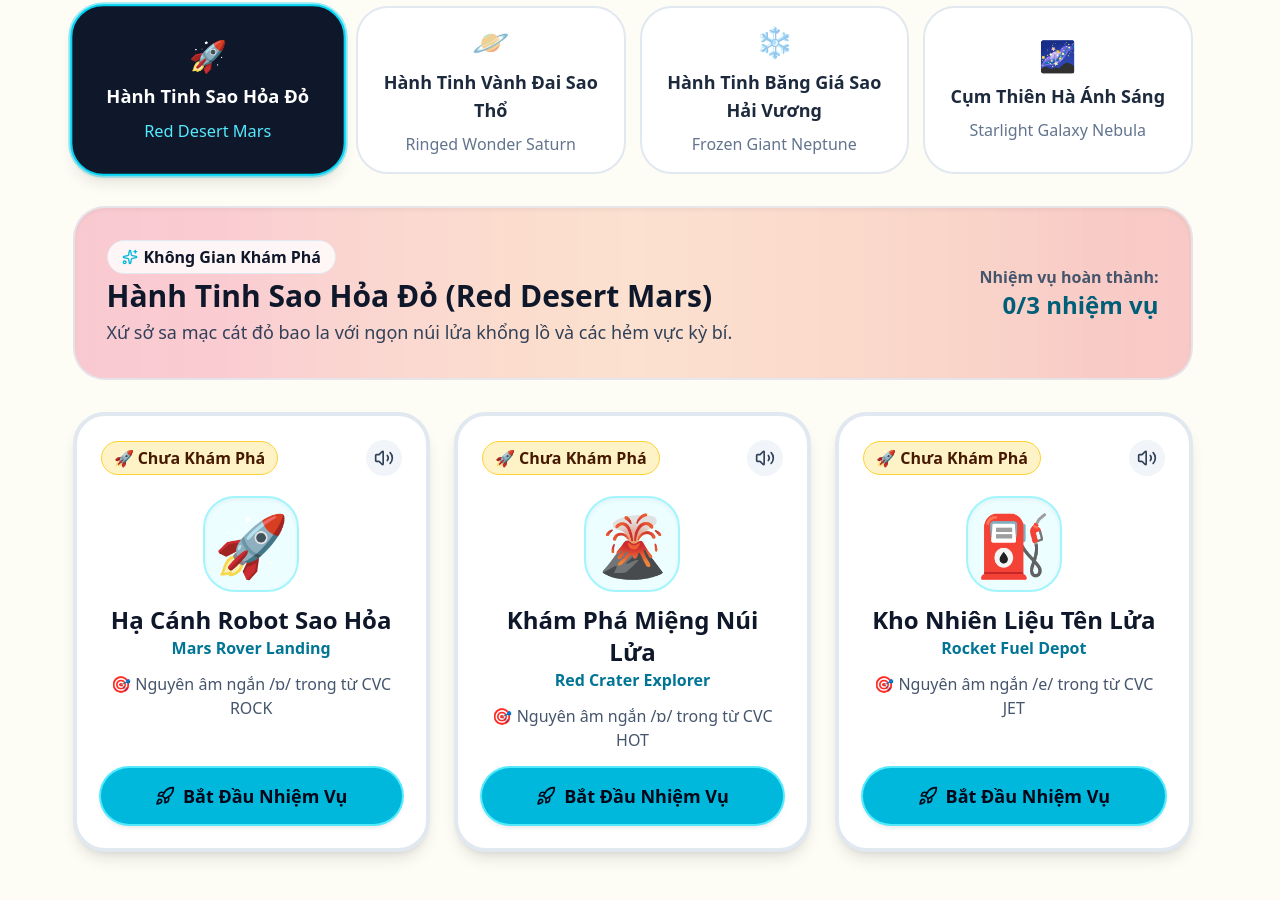
Scenario: Phonics Space Odyssey UI Components › PhonicsSpaceExperience Main Container › renders sector missions, opens rover modal, and completes mission
The image size is (1280, 900).
(page scrolled)
Check: the heading "Hành Tinh Sao Hỏa Đỏ (Red Desert Mars)" is shown, box 106,278 -> 732,314
Check: the element with test id "space-mission-card-mars-rover" is shown, box 72,412 -> 430,852
Note: Click "Bắt Đầu Nhiệm Vụ" for Mars Rover
Click the button with aria-label "thực hiện nhiệm vụ hạ cánh robot sao hỏa": (251, 796) 100,768 -> 402,824
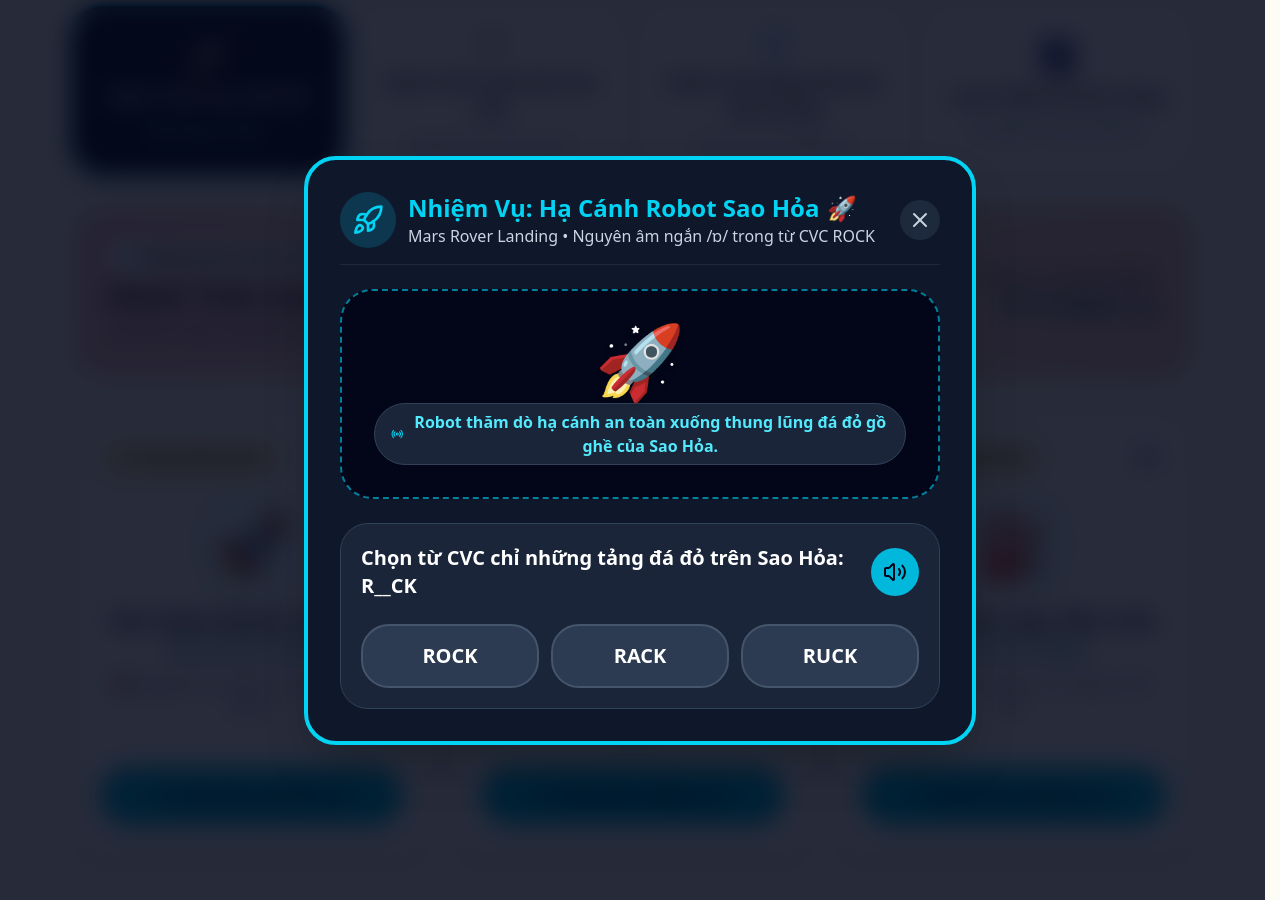
Check: the dialog named "trạm điều khiển nhiệm vụ hạ cánh robot sao hỏa" is shown
Note: Click correct option "ROCK"
Click the button "ROCK": (450, 656) 361,624 -> 539,688
Wait 1600 ms
(page scrolled)
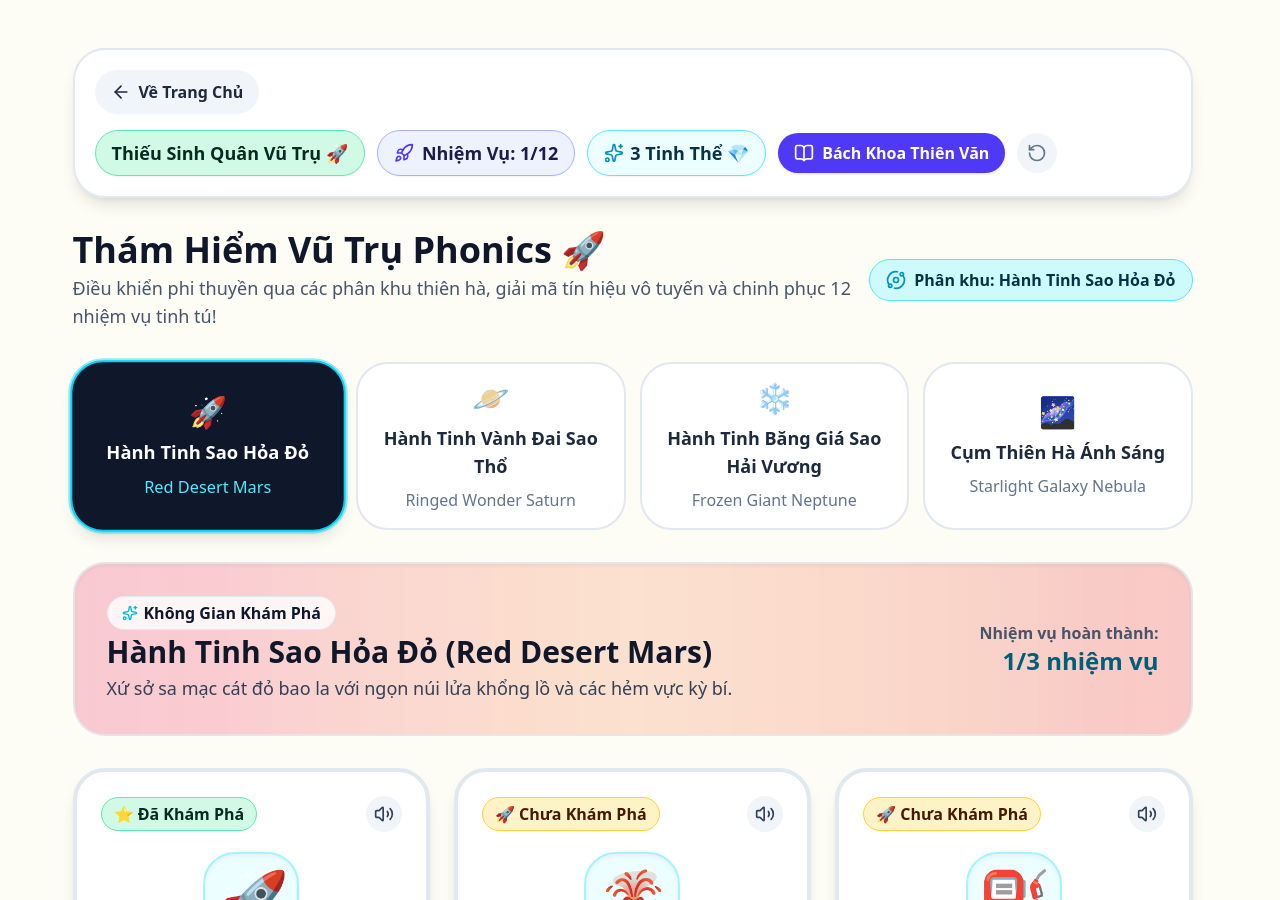
Check: the text "Nhiệm Vụ: 1/12" is shown, box 422,139 -> 558,167
Check: the text "3 Tinh Thể 💎" is shown, box 630,139 -> 749,167
